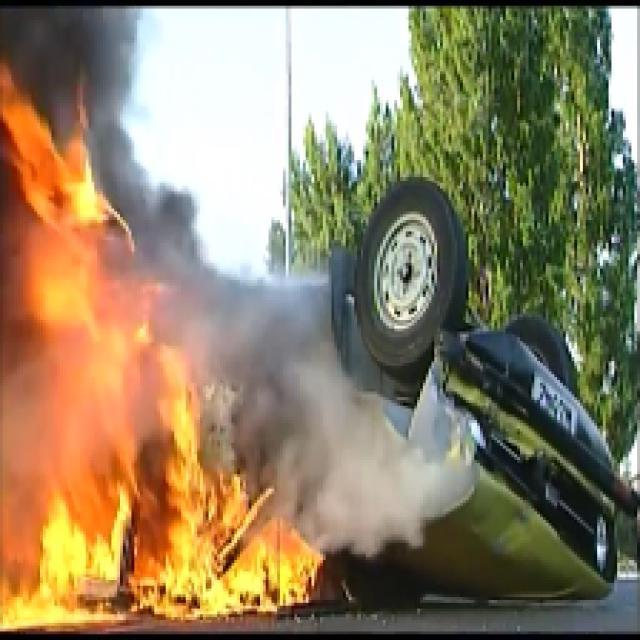Fire: (0, 100, 137, 619), (139, 350, 311, 610)
Smoke: (153, 188, 343, 343), (328, 373, 447, 550), (23, 9, 134, 87)
